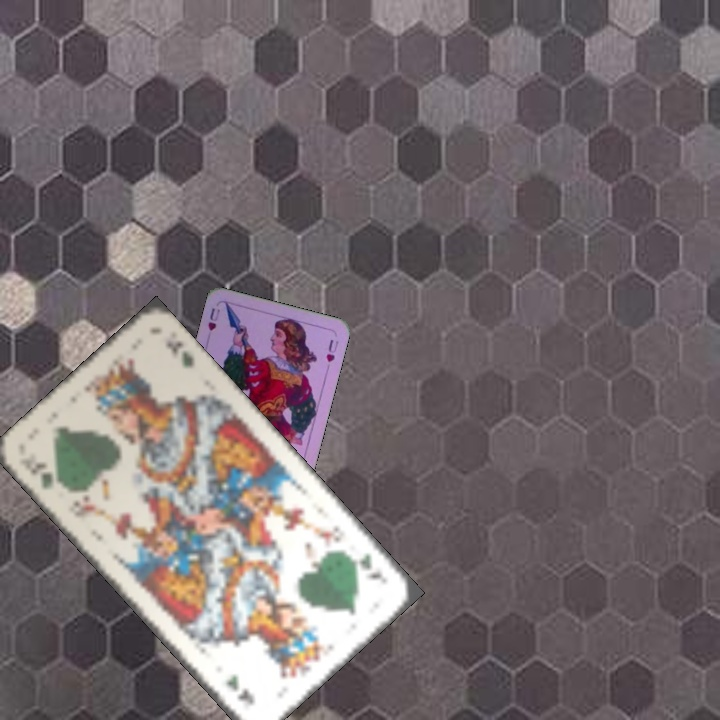GK: (343, 548, 390, 588), (36, 467, 67, 493)
HU: (204, 304, 223, 333)
